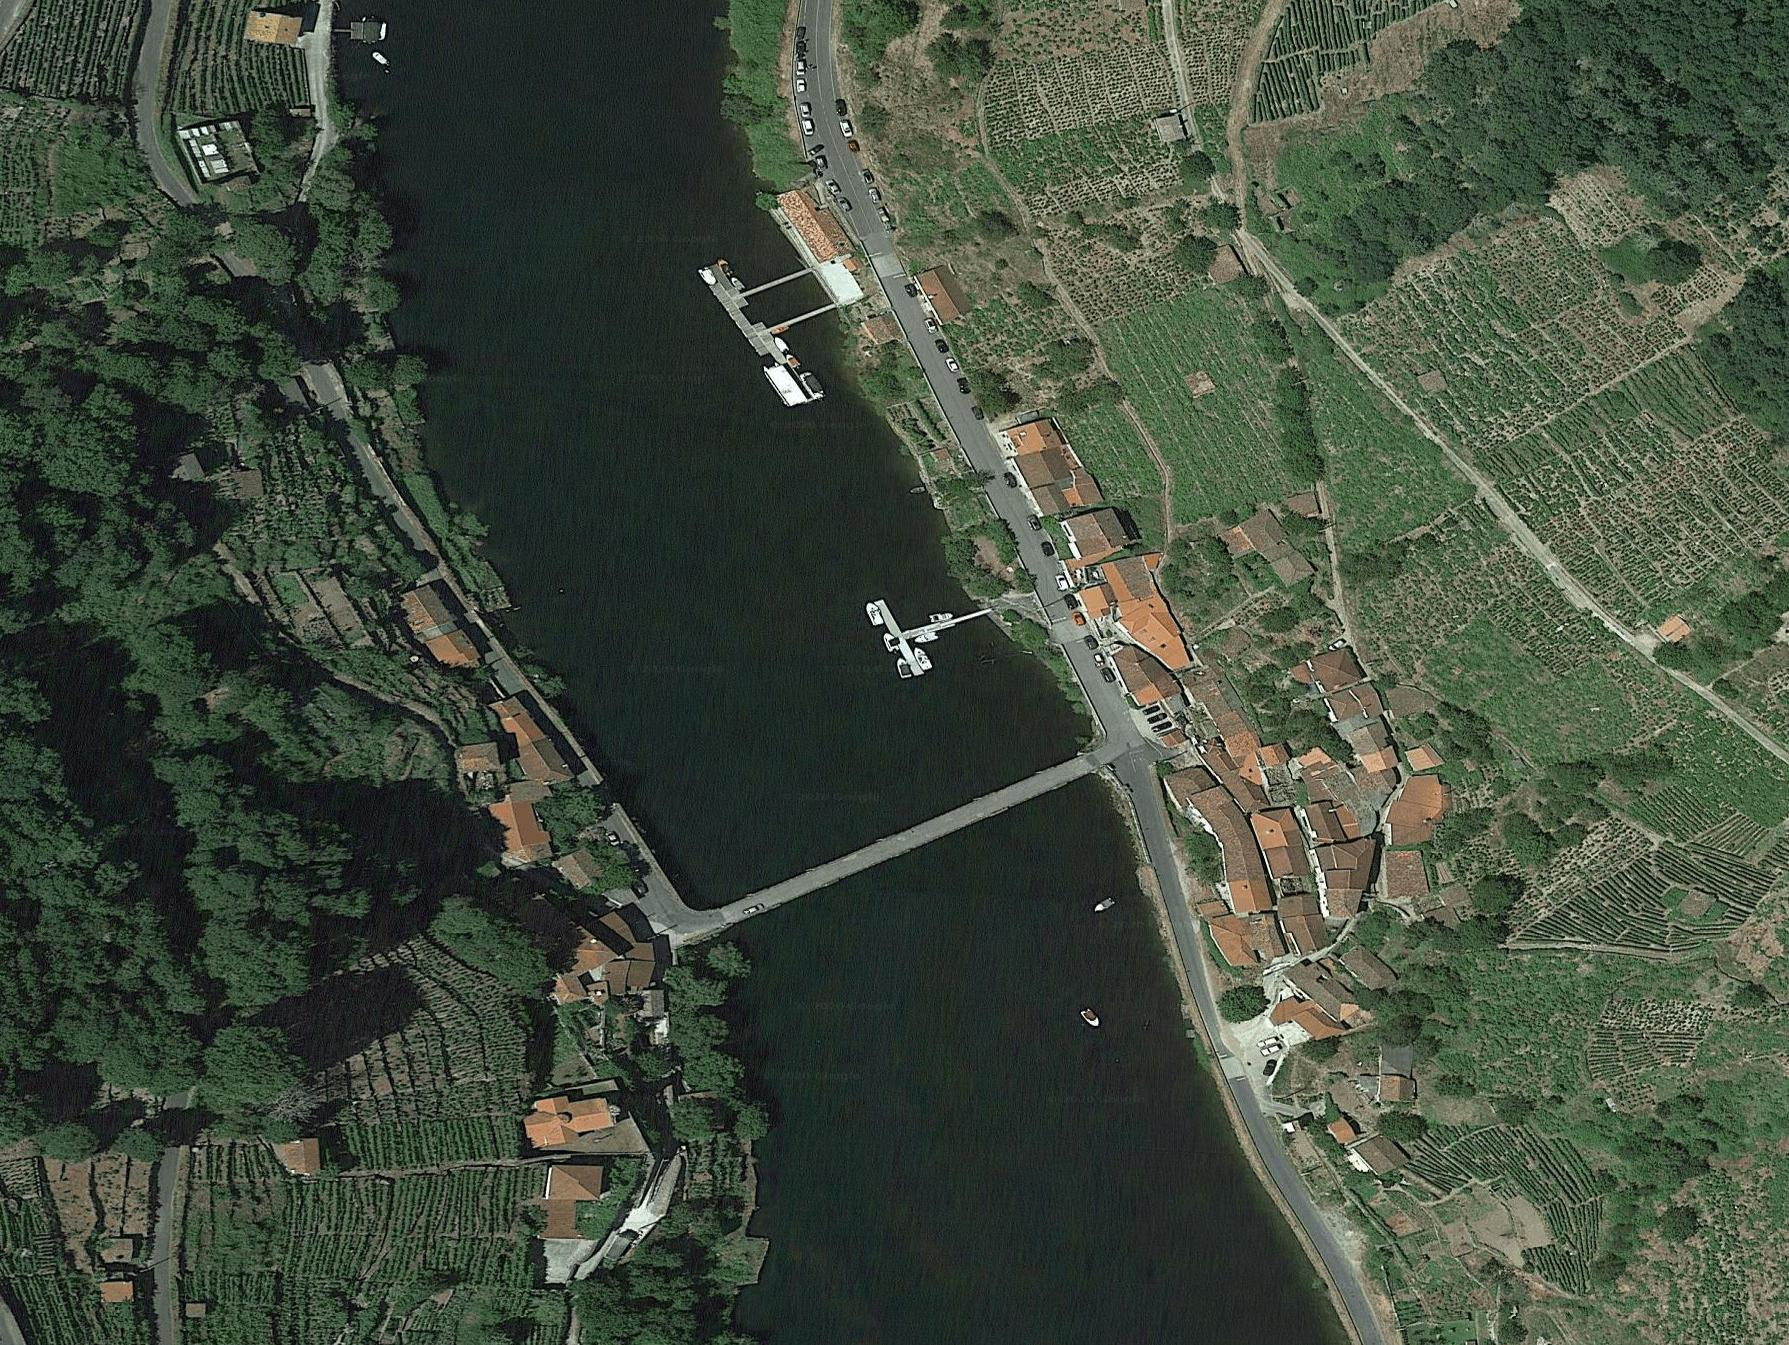bridge: (694, 760, 1097, 941)
harbor: (701, 236, 863, 404), (869, 581, 993, 675), (332, 1, 398, 61)
